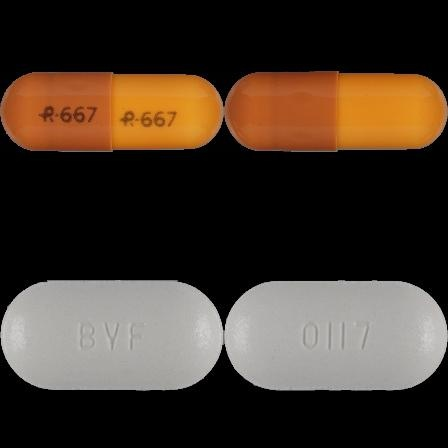49999-540: (0, 0, 224, 224)
